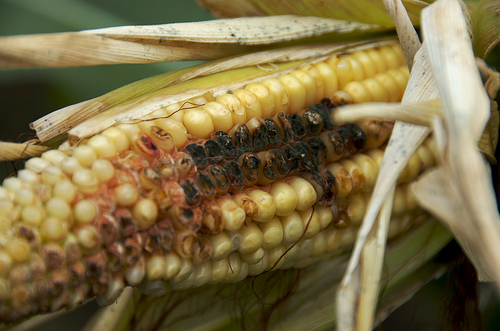corn: (0, 41, 441, 320)
